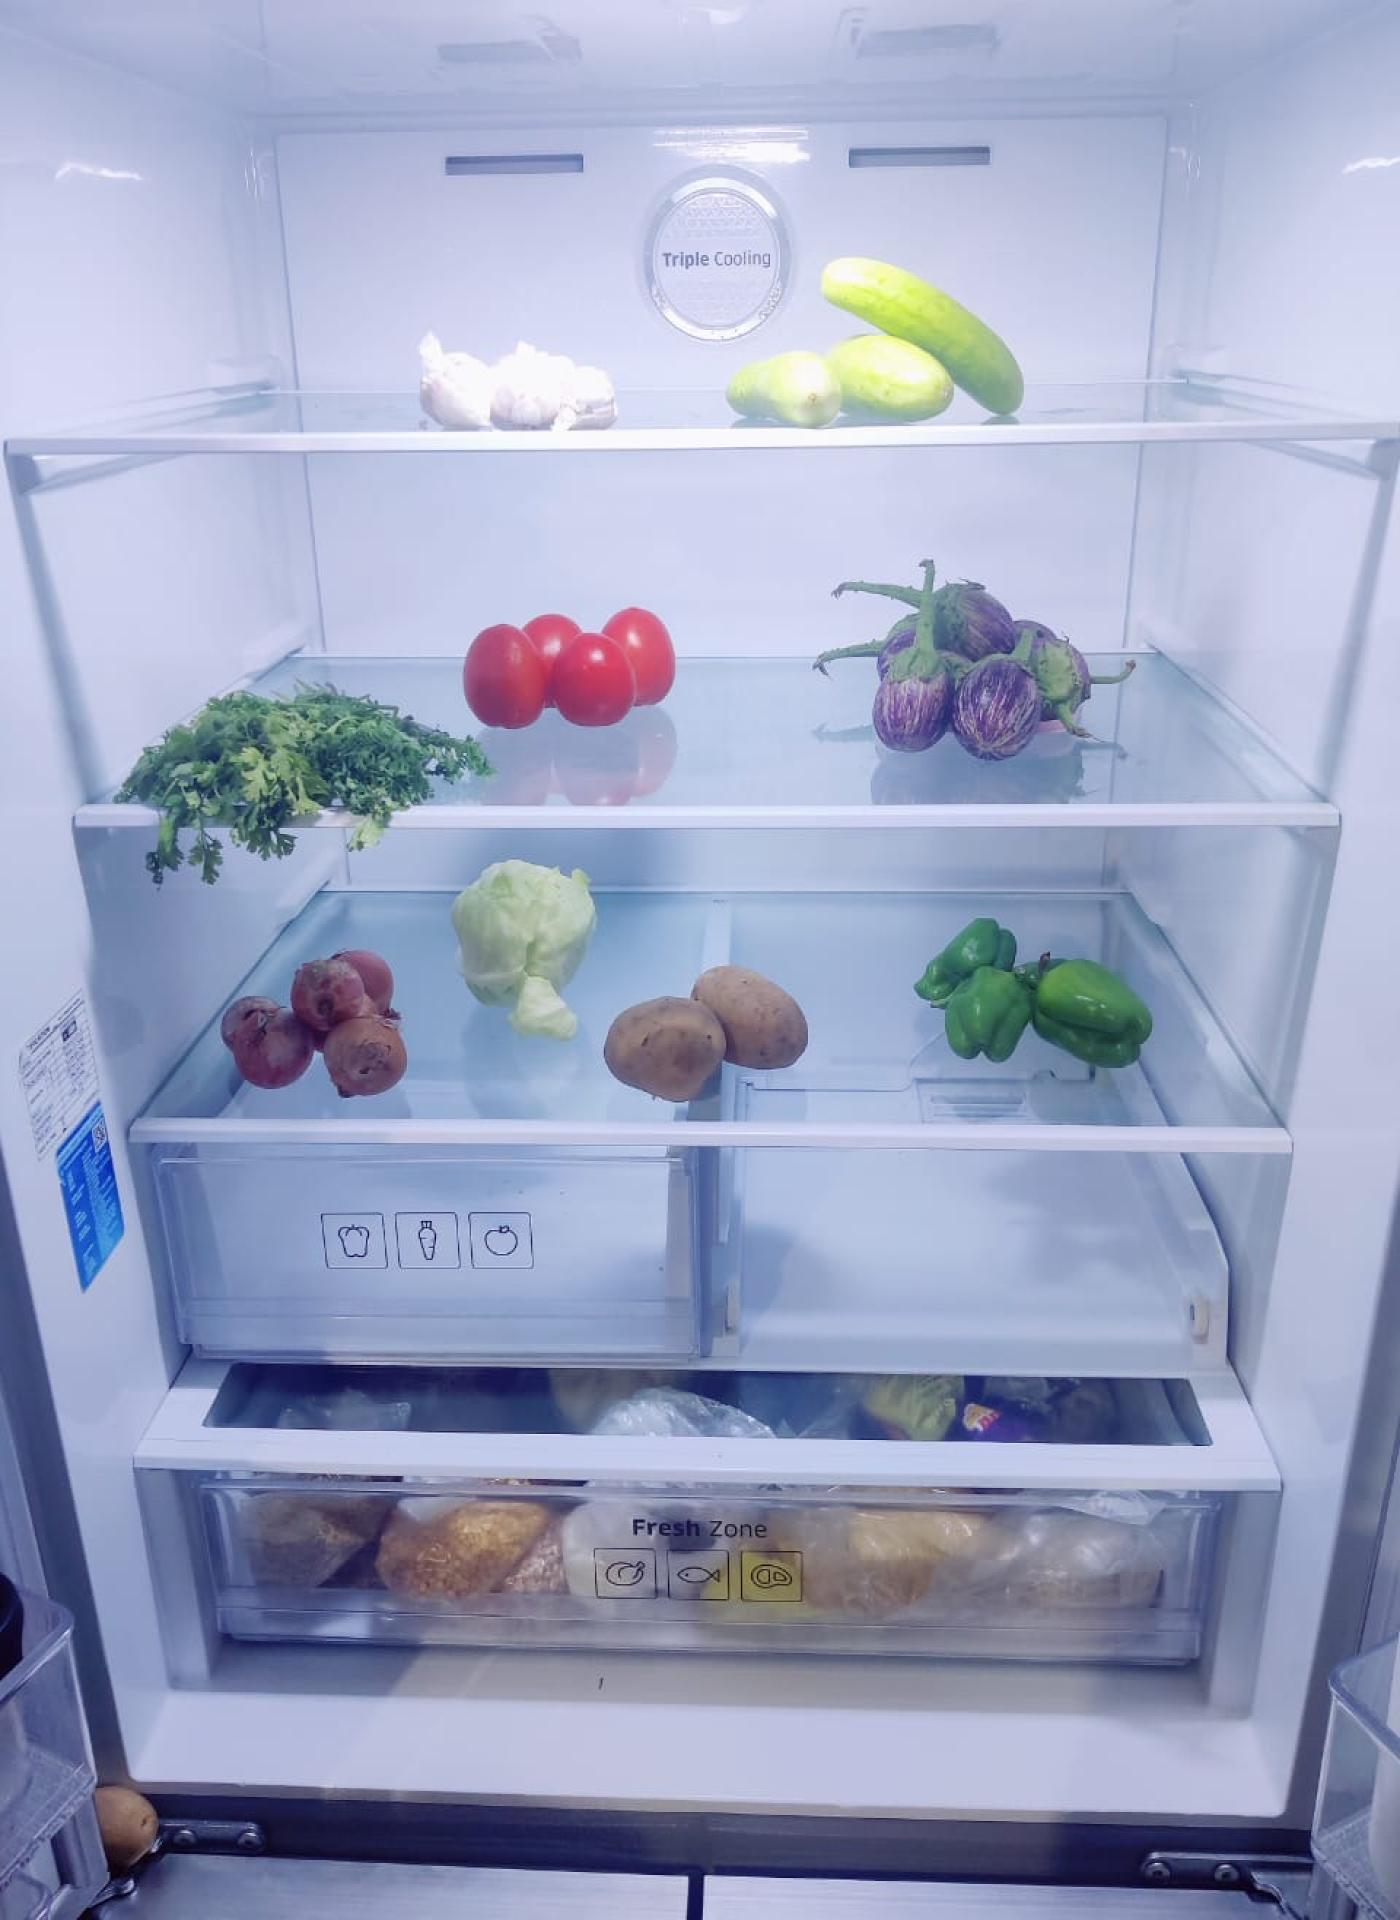cabbage: (455, 860, 599, 1009)
capsicum: (924, 917, 1161, 1070), (917, 912, 1033, 1058)
coriander: (127, 695, 483, 859)
cucumber: (813, 255, 1030, 417)
garlic: (832, 563, 1109, 759), (409, 332, 626, 437)
onion: (227, 948, 412, 1093)
potato: (608, 961, 816, 1100)
tomato: (462, 607, 677, 727)
